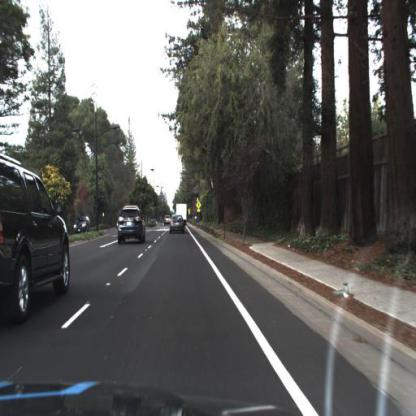car: (2, 157, 72, 329), (117, 205, 147, 246), (168, 214, 188, 235), (74, 216, 92, 234), (163, 213, 173, 229)
truck: (176, 201, 189, 222)
